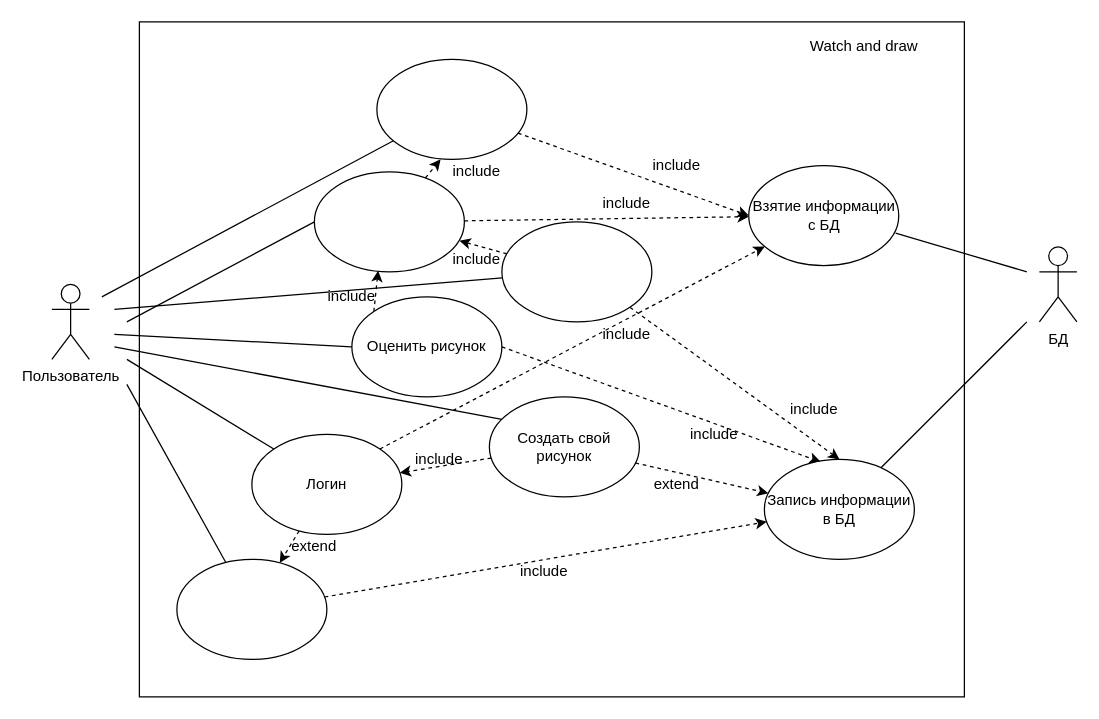
The diagram is 1099 pixels wide and 719 high, and some of its shapes have lost their labels. The shapes that lost their labels are listed below. From the top down, each one's centre as x and y in pixels, then its label:
At point 451,108: "Просмотр всех пользователей".
At point 388,221: "Просмотр работ пользователя".
At point 576,271: "Добавить пользователя в избранное".
At point 251,608: "Регистрация".
